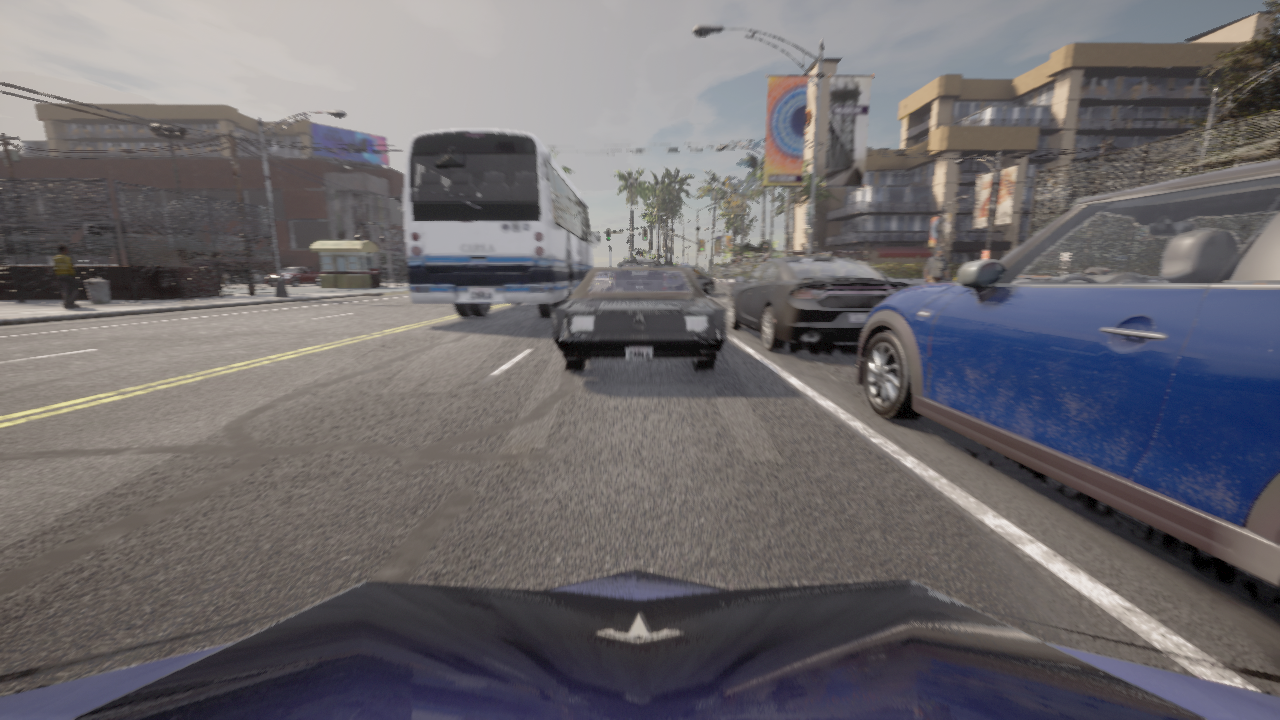cyclist: (0, 569, 1279, 719), (856, 160, 1279, 587), (404, 128, 599, 317), (728, 253, 910, 351), (553, 267, 726, 370), (666, 265, 714, 294), (266, 267, 319, 286), (234, 271, 266, 283), (618, 260, 660, 267), (222, 273, 230, 285), (953, 274, 955, 279)
pedestrian: (52, 246, 79, 308), (925, 248, 948, 283), (953, 273, 958, 281)
